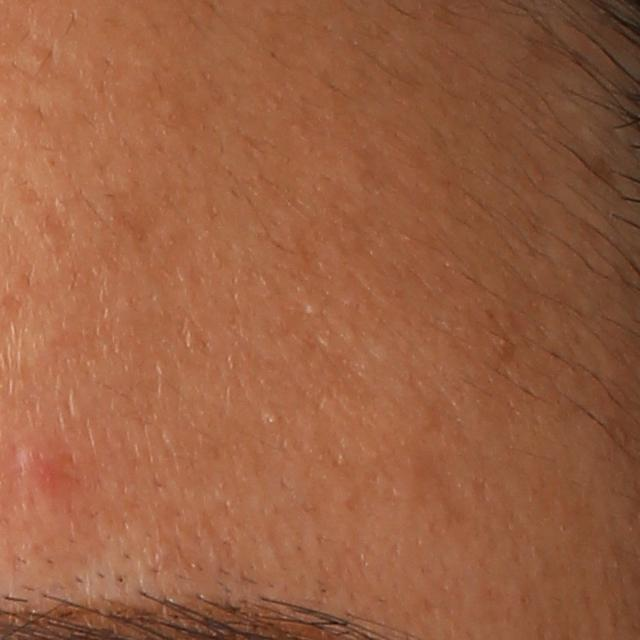comedo: (264, 411, 281, 428)
papule: (12, 440, 65, 495)
